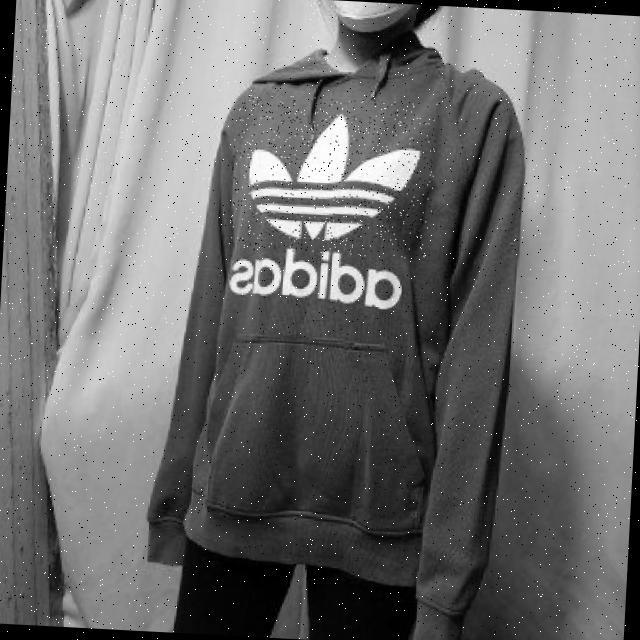Adidas: (229, 93, 438, 260)
